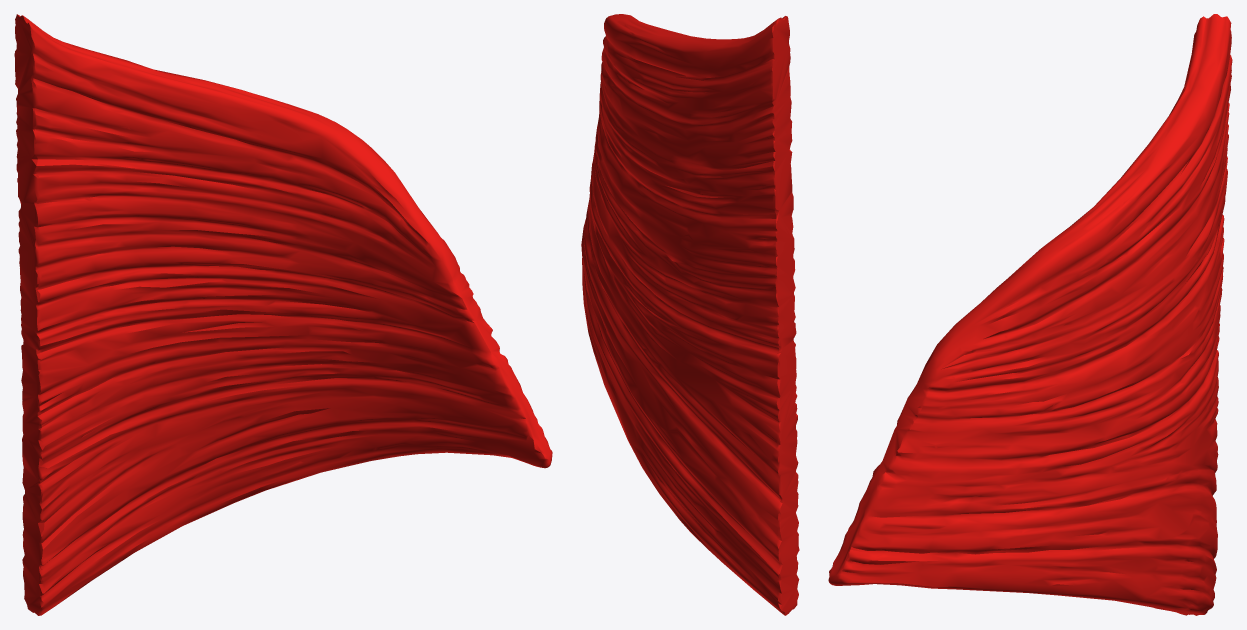
The model's file is Left superior pharyngeal constrictor.fbx.
3 views of the same model, side by side, from view 1: azimuth 30°, elevation 25°; view 2: azimuth 150°, elevation 25°; view 3: azimuth 270°, elevation 25° (orthographic). The views are drawn at different scales.
Parts seen in each view (by area): view 1: Left superior pharyngeal constrictor; view 2: Left superior pharyngeal constrictor; view 3: Left superior pharyngeal constrictor.
Part boxes in pixels (x1,y1,x2,y2): Left superior pharyngeal constrictor: [14, 14, 552, 615]; Left superior pharyngeal constrictor: [581, 14, 799, 615]; Left superior pharyngeal constrictor: [828, 14, 1232, 615].
Bounding box in the file's own units: 4.39 × 7.14 × 4.35.
